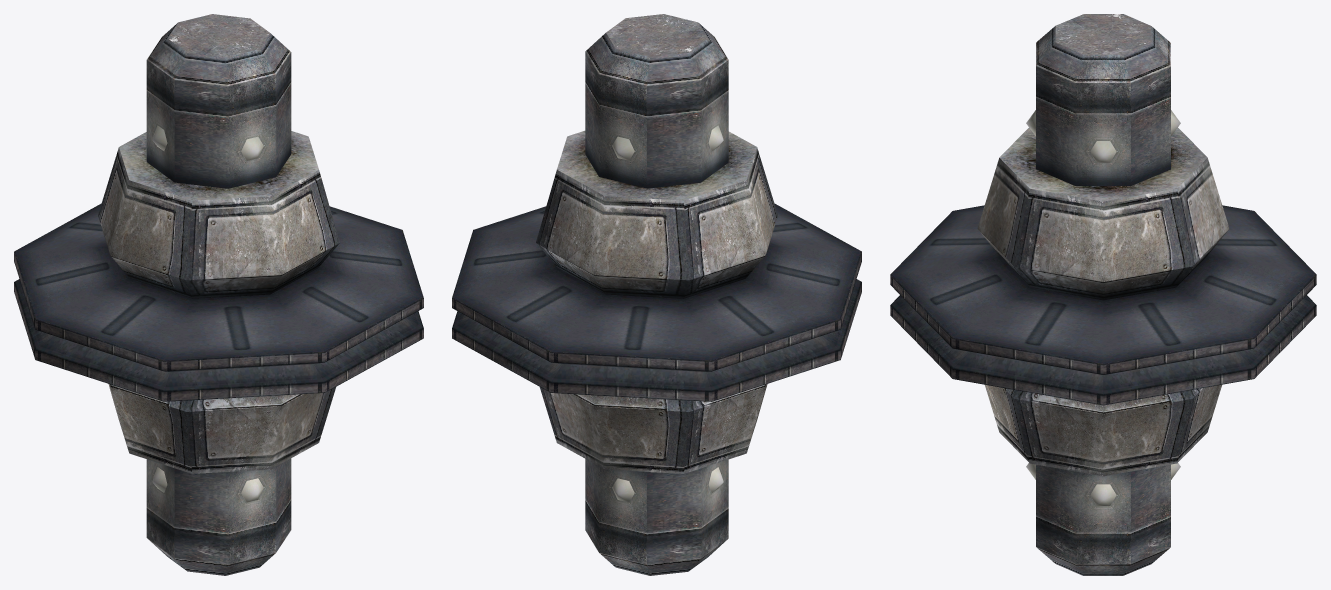
Rendered from kessel_mine_explosive_s01_l1.fbx.
3 renders of one model, left to right at view 1: azimuth 30°, elevation 25°; view 2: azimuth 150°, elevation 25°; view 3: azimuth 270°, elevation 25°, orthographic.
Parts seen in each view (by area): view 1: mesh_node; view 2: mesh_node; view 3: mesh_node.
Boxes of the visible parts, x1,y1,x2,y2 form: mesh_node: (14, 14, 423, 575); mesh_node: (452, 14, 861, 575); mesh_node: (890, 14, 1316, 575).
Size of the model in its own units: 8.9 by 12 by 8.9.
